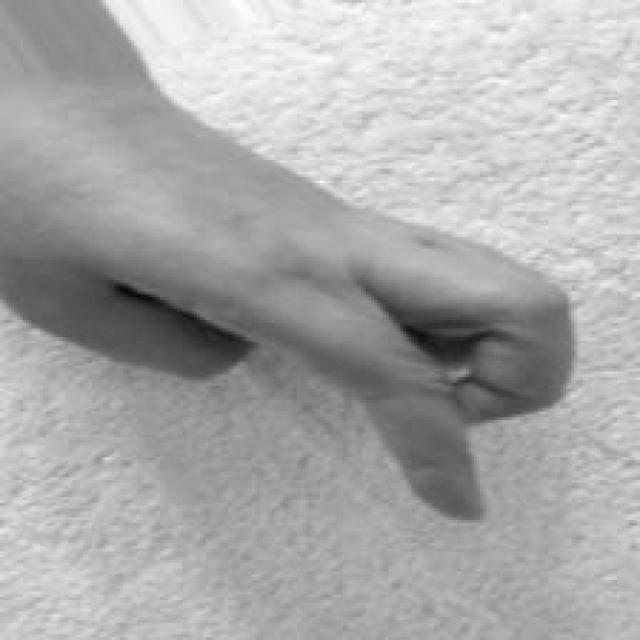P: (2, 64, 581, 536)
